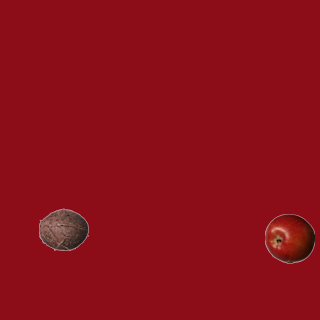Apple Braeburn: (264, 213, 314, 263)
Cocos: (38, 204, 88, 254)
